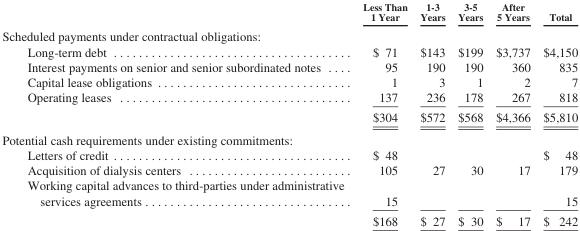table: (1, 0, 577, 227)
table column: (1, 0, 352, 227), (352, 0, 413, 227), (488, 0, 536, 227), (536, 0, 577, 227), (450, 0, 488, 227), (413, 0, 450, 227)
table column header: (1, 0, 577, 25)
table projected row header: (1, 128, 577, 147), (1, 25, 577, 43)
table row: (1, 177, 577, 210), (1, 0, 577, 25), (1, 106, 577, 128), (1, 128, 577, 147), (1, 25, 577, 43), (1, 89, 577, 106), (1, 210, 577, 227), (1, 58, 577, 74), (1, 43, 577, 58), (1, 74, 577, 89), (1, 147, 577, 162), (1, 162, 577, 177)
